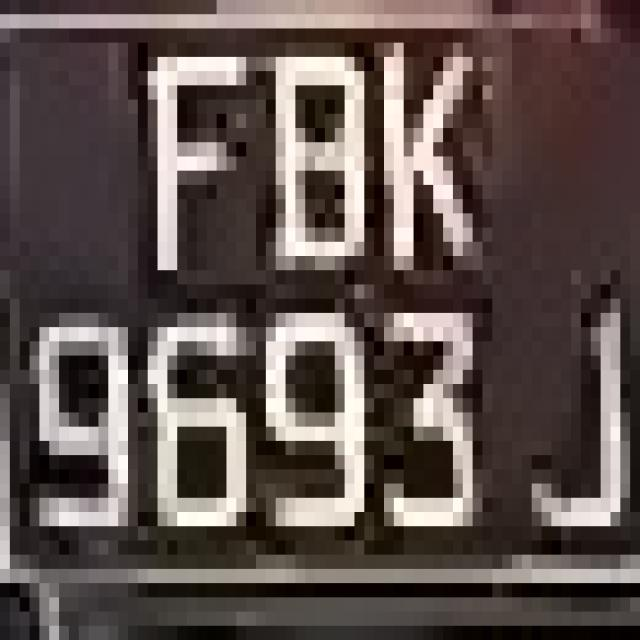3: (345, 284, 502, 540)
6: (128, 285, 276, 583)
9: (20, 270, 128, 569), (246, 284, 364, 554)
B: (246, 14, 384, 299)
F: (138, 0, 266, 327)
J: (502, 284, 640, 598)
K: (355, 28, 502, 284)
